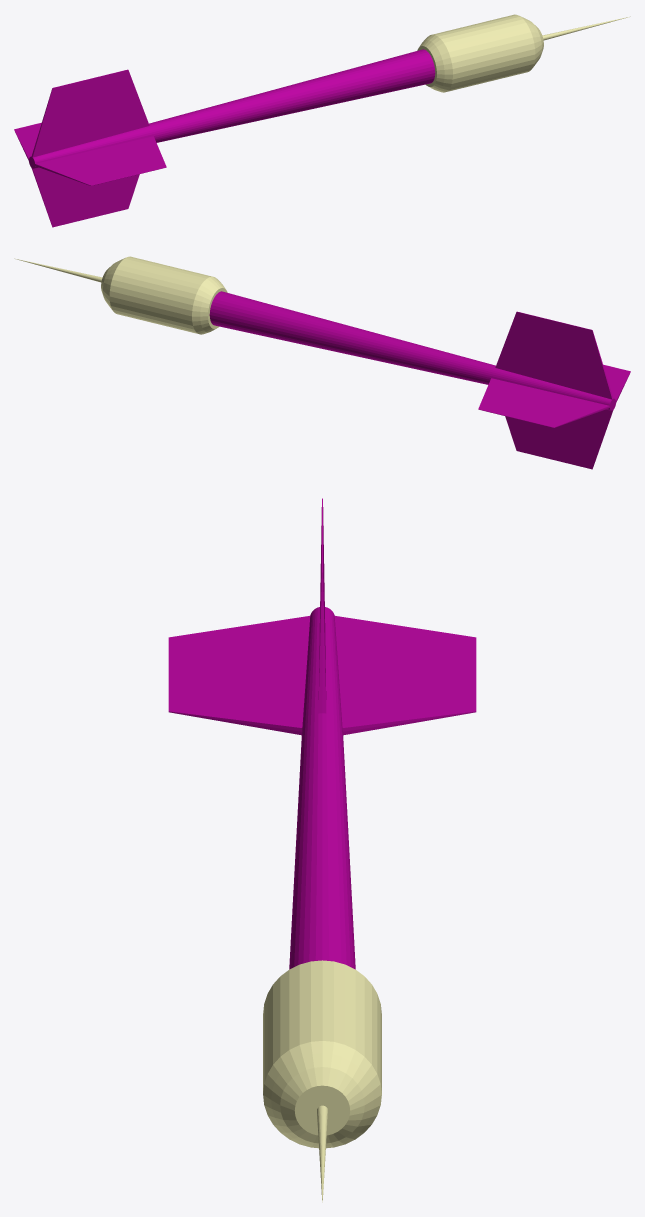
The model's file is dart1.fbx.
3 renders of one model, top to bottom at view 1: azimuth 30°, elevation 25°; view 2: azimuth 150°, elevation 25°; view 3: azimuth 270°, elevation 25°, orthographic. The views are drawn at different scales.
Parts seen in each view (by area): view 1: Cylinder; view 2: Cylinder; view 3: Cylinder.
Boxes of the visible parts, x1=… form: Cylinder: x1=14, y1=14, x2=630, y2=227; Cylinder: x1=14, y1=256, x2=630, y2=469; Cylinder: x1=168, y1=498, x2=476, y2=1202.
Bounding box in the file's own units: 1036 × 231 × 231.
